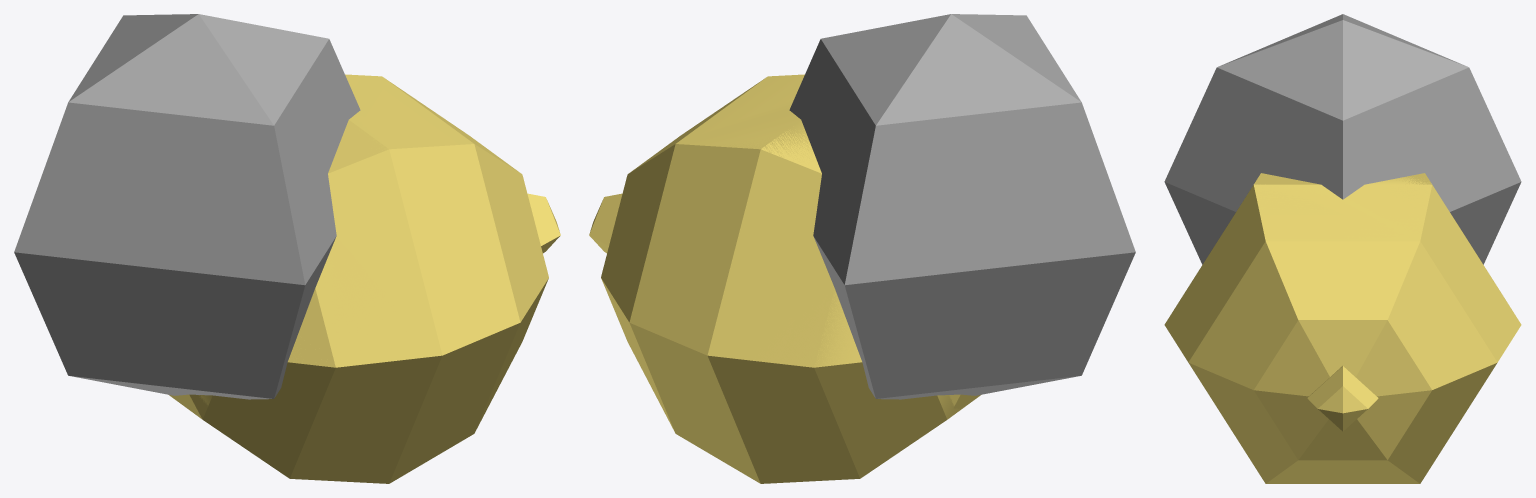
Rendered from Lemon_Bite_Model.fbx.
The picture shows the model from 3 angles, left to right: view 1: azimuth 30°, elevation 25°; view 2: azimuth 150°, elevation 25°; view 3: azimuth 270°, elevation 25°; orthographic projection. The views are drawn at different scales.
Visible parts, largest first — view 1: Negative_Sphere, Body, Whole_Lemon, Tip; view 2: Negative_Sphere, Whole_Lemon, Body, Tip; view 3: Body, Negative_Sphere, Whole_Lemon, Tip.
Part boxes in pixels (x1,y1,x2,y2): Negative_Sphere: (14, 14, 360, 399); Body: (168, 74, 546, 483); Whole_Lemon: (169, 74, 548, 480); Tip: (527, 193, 560, 253); Negative_Sphere: (789, 14, 1135, 399); Whole_Lemon: (618, 130, 981, 483); Body: (601, 74, 972, 481); Tip: (589, 193, 622, 253); Body: (1188, 176, 1520, 483); Negative_Sphere: (1164, 14, 1521, 264); Whole_Lemon: (1164, 173, 1521, 483); Tip: (1307, 366, 1378, 431).
Size of the model in its own units: 8.82 by 7.21 by 6.
